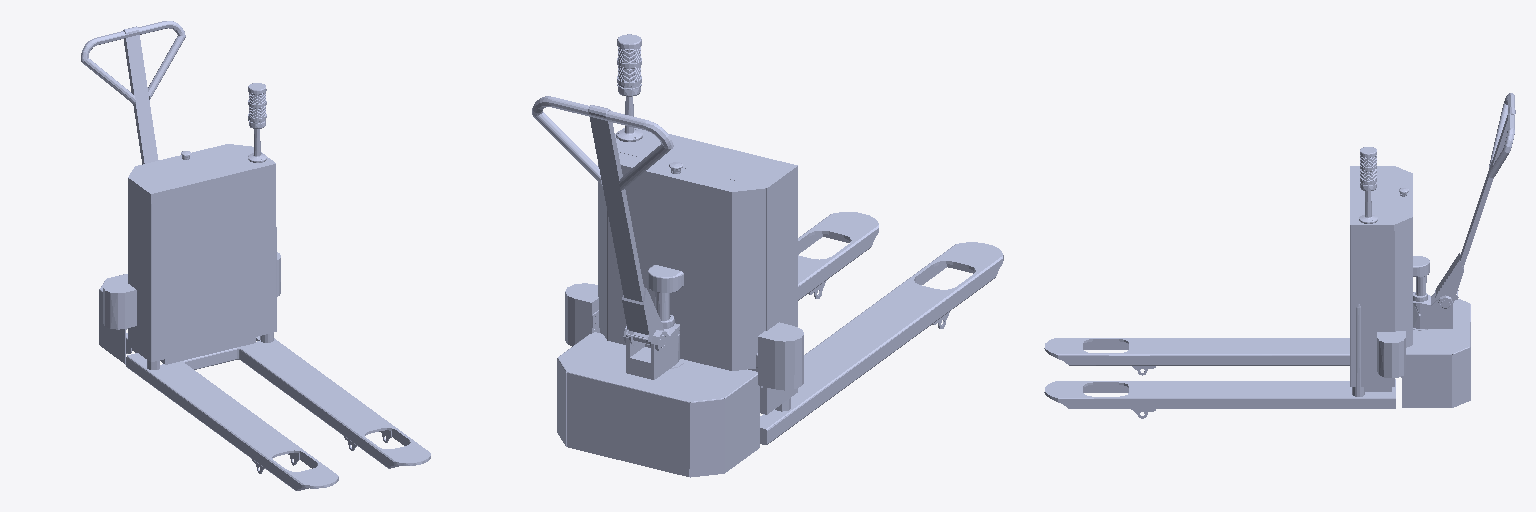
robot.urdf — robot_base:
<?xml version="1.0"?>

<robot name="robot_base">
  <link name="base_link" />
    <joint name="base_fixed_joint" type="fixed">
        <parent link="base_link" />
        <child link="blok" />
    </joint>
  <link name="blok">
    <inertial>
      <origin
        xyz="0.0030946 4.78250032638821E-11 0.053305"
        rpy="0 0 0" />
      <mass
        value="47.873" />
      <inertia
        ixx="0.774276574699151"
        ixy="-1.03781944357671E-10"
        ixz="0.00763014265820928"
        iyy="1.64933255189991"
        iyz="1.09578155845563E-12"
        izz="2.1239326987473" />
    </inertial>
    <visual>
      <origin
        xyz="0.216 0.1 0"
        rpy="0 0 3.14" />
      <geometry>
        <mesh filename="package://mobile_manipulator_body/meshes/blok.dae" />
      </geometry>
      <material
        name="">
        <color
          rgba="0.79216 0.81961 0.93333 1" />
      </material>
    </visual>
    <collision>
      <origin
        xyz="0 0 0"
        rpy="0 0 3.14" />
      <geometry>
        <mesh filename="package://mobile_manipulator_body/meshes/blok.dae" />
      </geometry>
    </collision>
  </link>
  
    <link name="widly">
    <inertial>
      <origin
        xyz="0.030946 4.78250032638821E-11 0.053305"
        rpy="0 0 0" />
      <mass
        value="47.873" />
      <inertia
        ixx="0.774276574699151"
        ixy="-1.03781944357671E-10"
        ixz="0.00763014265820928"
        iyy="1.64933255189991"
        iyz="1.09578155845563E-12"
        izz="2.1239326987473" />
    </inertial>
    <visual>
      <origin
        xyz="0 -0.5 0"
        rpy="0 0 0" />
      <geometry>
        <mesh filename="package://mobile_manipulator_body/meshes/widly.dae" />
      </geometry>
      <material
        name="">
        <color
          rgba="0.79216 0.81961 0.93333 1" />
      </material>
    </visual>
    <collision>
      <origin
        xyz="0 -0.5 0"
        rpy="0 0 0" />
      <geometry>
        <mesh filename="package://mobile_manipulator_body/meshes/widly.dae" />
      </geometry>
    </collision>
  </link>
  
  <link name="kolo_napedowe">
    <inertial>
      <origin
        xyz="0.030946 4.78250032638821E-11 0.053305"
        rpy="0 0 0" />
      <mass
        value="47.873" />
      <inertia
        ixx="0.774276574699151"
        ixy="-1.03781944357671E-10"
        ixz="0.00763014265820928"
        iyy="1.64933255189991"
        iyz="1.09578155845563E-12"
        izz="2.1239326987473" />
    </inertial>
    <visual>
      <origin
        xyz="0 -0.15 0"
        rpy="0 0 0" />
      <geometry>
        <mesh filename="package://mobile_manipulator_body/meshes/kolonapedowe.dae" />
      </geometry>
      <material
        name="">
        <color
          rgba="0.79216 0.81961 0.93333 1" />
      </material>
    </visual>
    <collision>
      <origin
        xyz="0 0 0.5"
        rpy="0 0 0" />
      <geometry>
        <mesh filename="package://mobile_manipulator_body/meshes/kolonapedowe.dae" />
      </geometry>
    </collision>
  </link>

  <joint name="blok_widly" type="continuous">
    <axis xyz="0 1 0"/>
    <parent link ="blok"/>
    <child link ="widly"/>
    <origin rpy ="0 0 0" xyz= "0.220 0.250 0"/>
  </joint>

  <joint name="blok_kolo_napedowe" type="continuous">
    <axis xyz="0 1 0"/>
    <parent link ="blok"/>
    <child link ="kolo_napedowe"/>
    <origin rpy ="0 0 0" xyz= "0.220 0.250 0"/>
  </joint>

<!--######################################################################-->


<!--######################################################################-->
</robot>

--- What the picture shows (computed from the rendered views, not written in the file) ---
The picture shows the robot from 3 angles, left to right: view 1: azimuth 30°, elevation 25°; view 2: azimuth 150°, elevation 25°; view 3: azimuth 270°, elevation 25°; orthographic projection.
Model robot_base with 4 links and 3 joints (2 continuous, 1 fixed), rooted at base_link, posed every joint at zero.
Links seen in each view (by area): view 1: blok, widly; view 2: blok, widly; view 3: blok, widly.
Boxes of the visible links, bbox=[...] form: blok: bbox=[81, 21, 280, 364]; widly: bbox=[126, 333, 430, 490]; blok: bbox=[532, 34, 803, 477]; widly: bbox=[648, 212, 1003, 444]; blok: bbox=[1350, 93, 1515, 407]; widly: bbox=[1044, 256, 1429, 418].
Bounding box of the posed robot: 0.7538 × 1.83 × 1.2 m (x, y, z).
Meshes: 3 distinct files referenced, 3 mesh visuals loaded (3 Collada DAE).